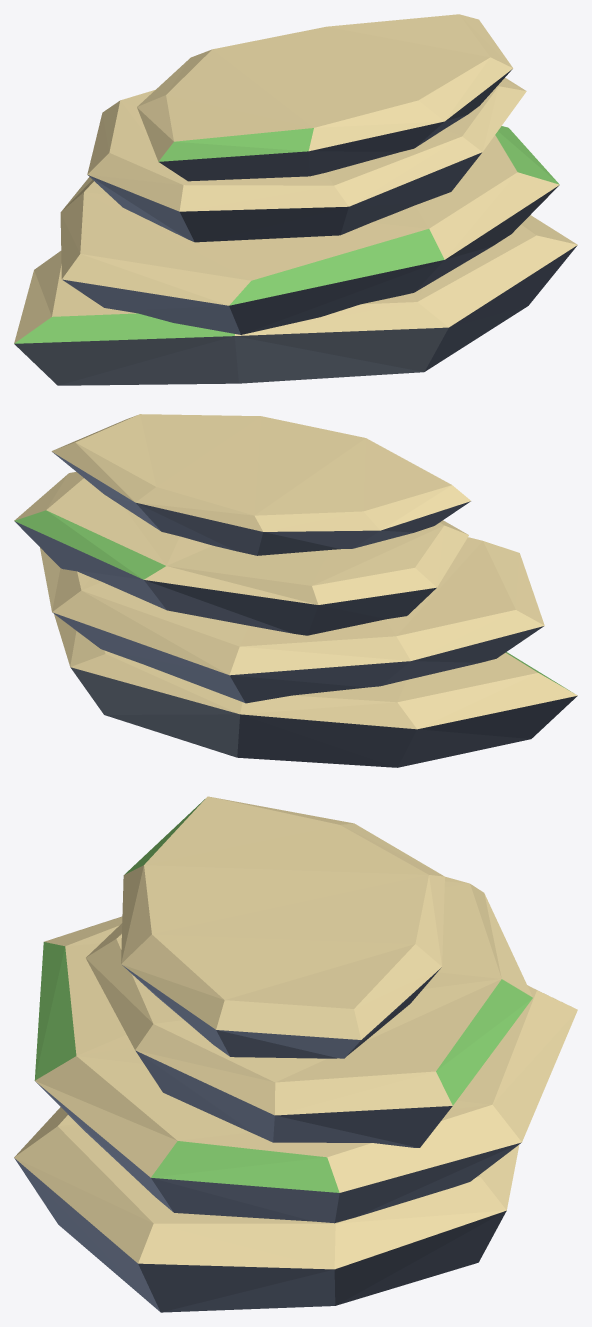
Rendered from rock_mesa_reef.fbx.
The picture shows the model from 3 angles, top to bottom: view 1: azimuth 30°, elevation 25°; view 2: azimuth 150°, elevation 25°; view 3: azimuth 270°, elevation 25°; orthographic projection. The views are drawn at different scales.
Parts seen in each view (by area): view 1: rock_mesa_reef; view 2: rock_mesa_reef; view 3: rock_mesa_reef.
Part boxes in pixels (x1=…): rock_mesa_reef: x1=14, y1=14, x2=577, y2=385; rock_mesa_reef: x1=14, y1=414, x2=577, y2=767; rock_mesa_reef: x1=14, y1=796, x2=577, y2=1312.
Bounding box in the file's own units: 2543 × 1092 × 1798.
1 material, 1 textured.
